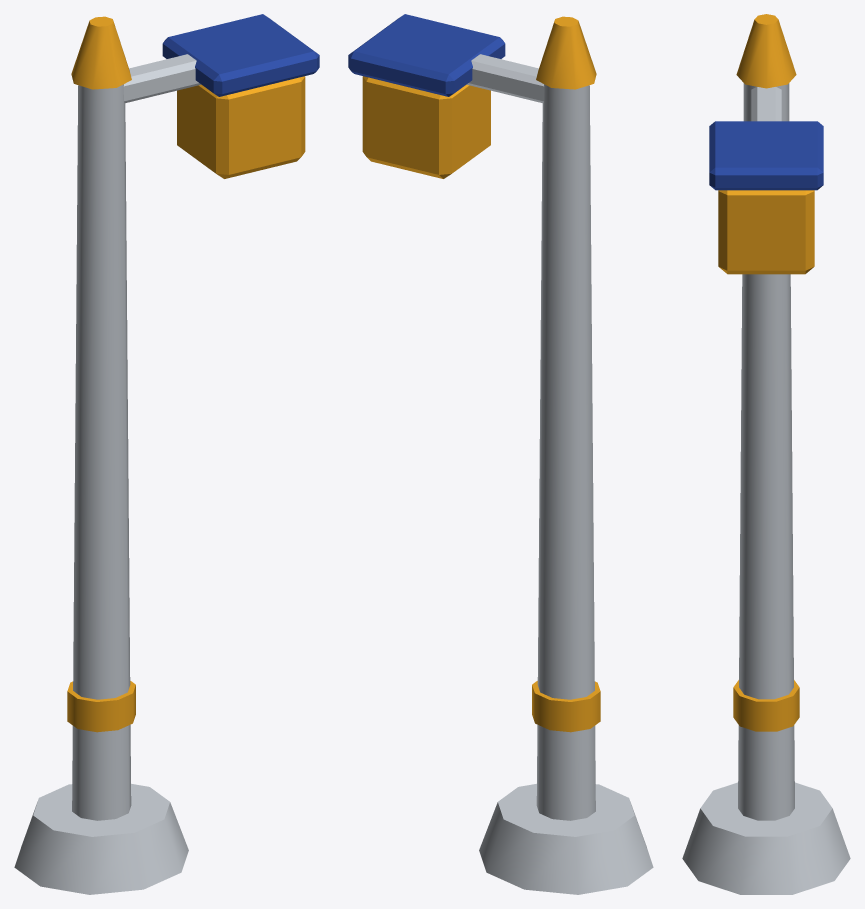
The model's file is lamp_post.glb.
The picture shows the model from 3 angles, left to right: view 1: azimuth 30°, elevation 25°; view 2: azimuth 150°, elevation 25°; view 3: azimuth 270°, elevation 25°; orthographic projection.
Visible parts, largest first — view 1: pole, base, head, head_cap, finial, pole_ring, arm; view 2: pole, base, head, head_cap, finial, pole_ring, arm; view 3: pole, base, head, head_cap, finial, pole_ring, arm.
Part boxes in pixels (box(x1,y1,x2,y2)): pole: box(72, 84, 131, 820); base: box(14, 783, 188, 894); head: box(177, 76, 305, 178); head_cap: box(162, 14, 319, 96); finial: box(71, 16, 131, 89); pole_ring: box(67, 681, 135, 732); arm: box(123, 54, 200, 103); pole: box(536, 84, 595, 820); base: box(479, 783, 653, 894); head: box(362, 76, 490, 178); head_cap: box(348, 14, 505, 96); finial: box(536, 16, 596, 89); pole_ring: box(532, 681, 600, 732); arm: box(467, 54, 544, 103); pole: box(738, 83, 794, 820); base: box(682, 782, 850, 894); head: box(718, 190, 814, 274); head_cap: box(709, 121, 823, 190); finial: box(736, 14, 796, 88); pole_ring: box(733, 680, 799, 731); arm: box(751, 87, 781, 121).
Size of the model in its own units: 1.1 by 3.3 by 0.6.
